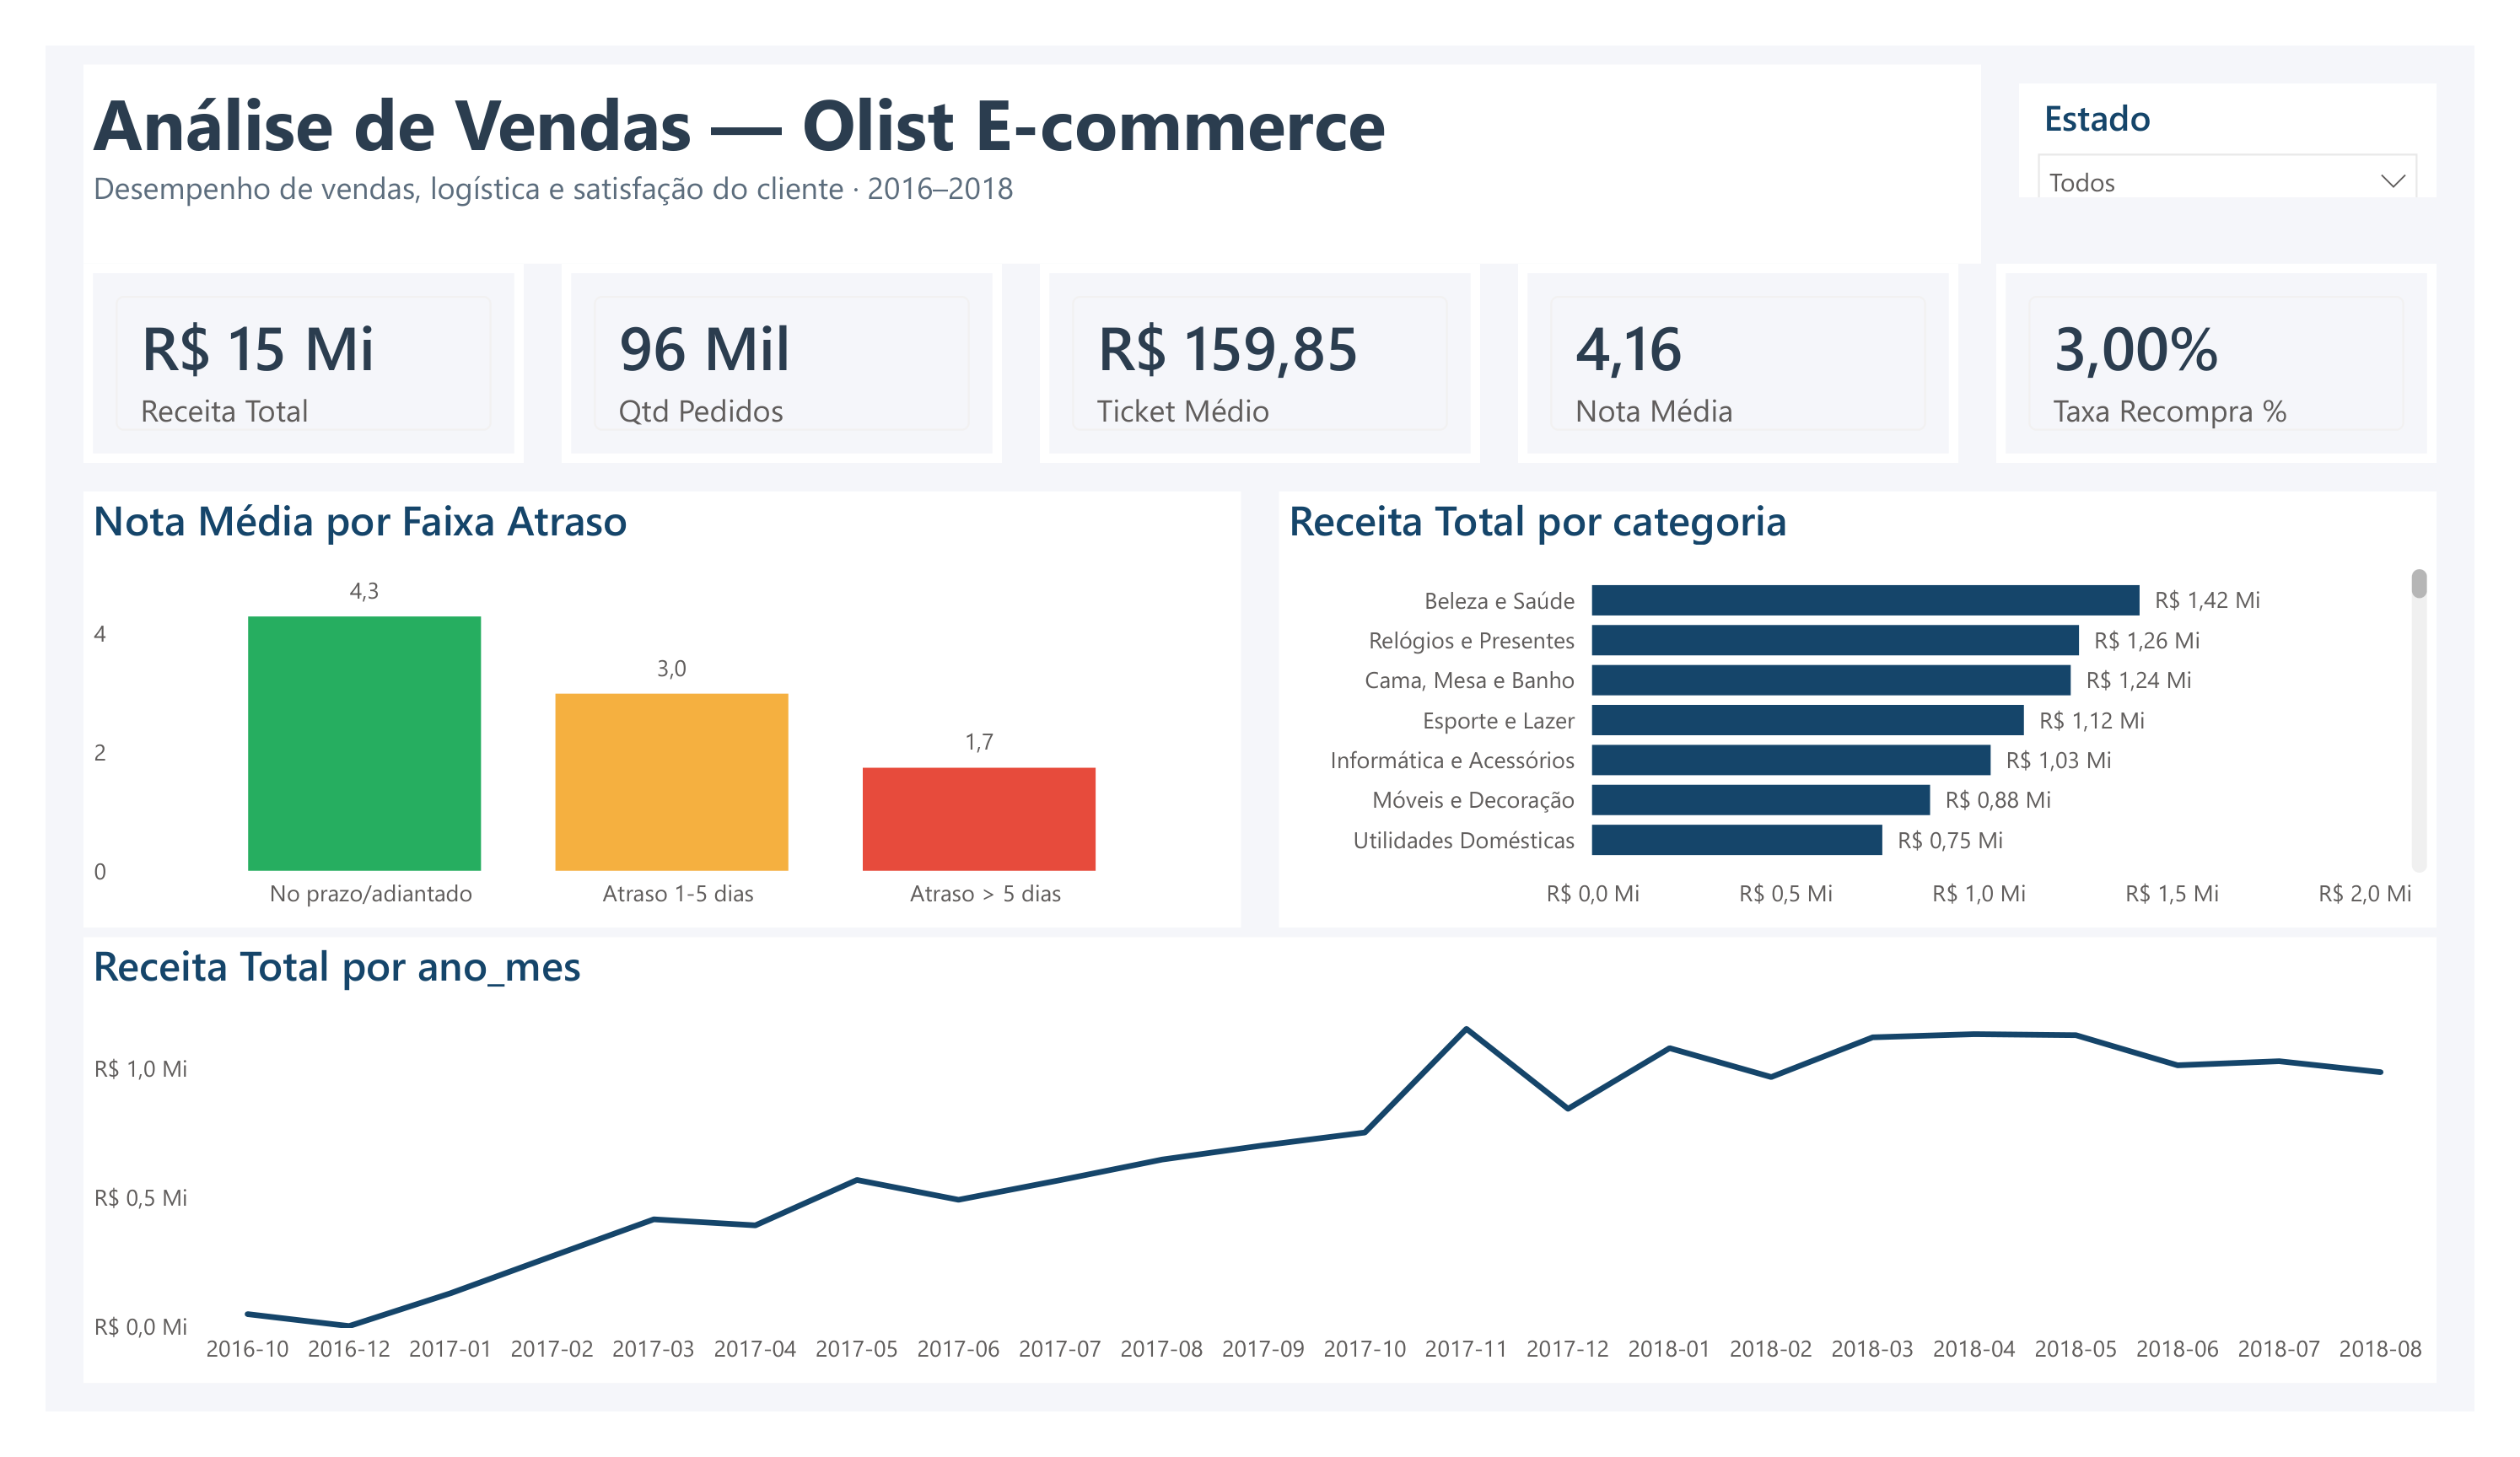

This screenshot's page, from the dashboard's own definition file:
{"tool":"powerbi","page":{"name":"Página 1","canvas":[1280,720],"ordinal":0},"visuals":[{"type":"cardVisual","fields":{"Data":["olist_analitico.Receita Total"]},"box":[20,115,232,105],"z":0},{"type":"cardVisual","fields":{"Data":["olist_analitico.Qtd Pedidos"]},"box":[272,115,232,105],"z":1000},{"type":"cardVisual","fields":{"Data":["olist_analitico.Ticket Médio"]},"box":[524,115,232,105],"z":2000},{"type":"cardVisual","fields":{"Data":["olist_analitico.Nota Média"]},"box":[776,115,232,105],"z":3000},{"type":"cardVisual","fields":{"Data":["olist_analitico.Taxa Recompra %"]},"box":[1028,115,232,105],"z":4000},{"type":"lineChart","fields":{"Category":["olist_analitico.order_purchase_timestamp.Variation.Hierarquia de datas.Ano","olist_analitico.order_purchase_timestamp.Variation.Hierarquia de datas.Mês"],"Y":["olist_analitico.Receita Total"]},"box":[20,470,1240,235],"z":5000},{"type":"clusteredBarChart","fields":{"Category":["olist_analitico.categoria"],"Y":["olist_analitico.Receita Total"]},"box":[650,235,610,230],"z":6000},{"type":"clusteredColumnChart","fields":{"Category":["olist_analitico.Faixa Atraso"],"Y":["olist_analitico.Nota Média"]},"box":[20,235,610,230],"z":7000},{"type":"textbox","box":[20,10,1000,105],"z":8000},{"type":"slicer","fields":{"Values":["olist_analitico.customer_state"]},"box":[1040,20,220,60],"z":8001}]}

Visuals, with their boxes in screenshot pixels (x1, y1, x2, y2), scaled from the page's 1280x720 canvas onto the 2520x1457 screenshot:
cardVisual - olist_analitico.Receita Total: [left=40, top=233, right=496, bottom=445]
cardVisual - olist_analitico.Qtd Pedidos: [left=536, top=233, right=993, bottom=445]
cardVisual - olist_analitico.Ticket Médio: [left=1031, top=233, right=1489, bottom=445]
cardVisual - olist_analitico.Nota Média: [left=1527, top=233, right=1984, bottom=445]
cardVisual - olist_analitico.Taxa Recompra %: [left=2024, top=233, right=2480, bottom=445]
lineChart - olist_analitico.order_purchase_timestamp.Variation.Hierarquia de datas.Ano x olist_analitico.order_purchase_timestamp.Variation.Hierarquia de datas.Mês: [left=40, top=951, right=2480, bottom=1427]
clusteredBarChart - olist_analitico.categoria x olist_analitico.Receita Total: [left=1279, top=476, right=2480, bottom=941]
clusteredColumnChart - olist_analitico.Faixa Atraso x olist_analitico.Nota Média: [left=40, top=476, right=1241, bottom=941]
textbox: [left=40, top=20, right=2008, bottom=233]
slicer - olist_analitico.customer_state: [left=2048, top=40, right=2480, bottom=162]
